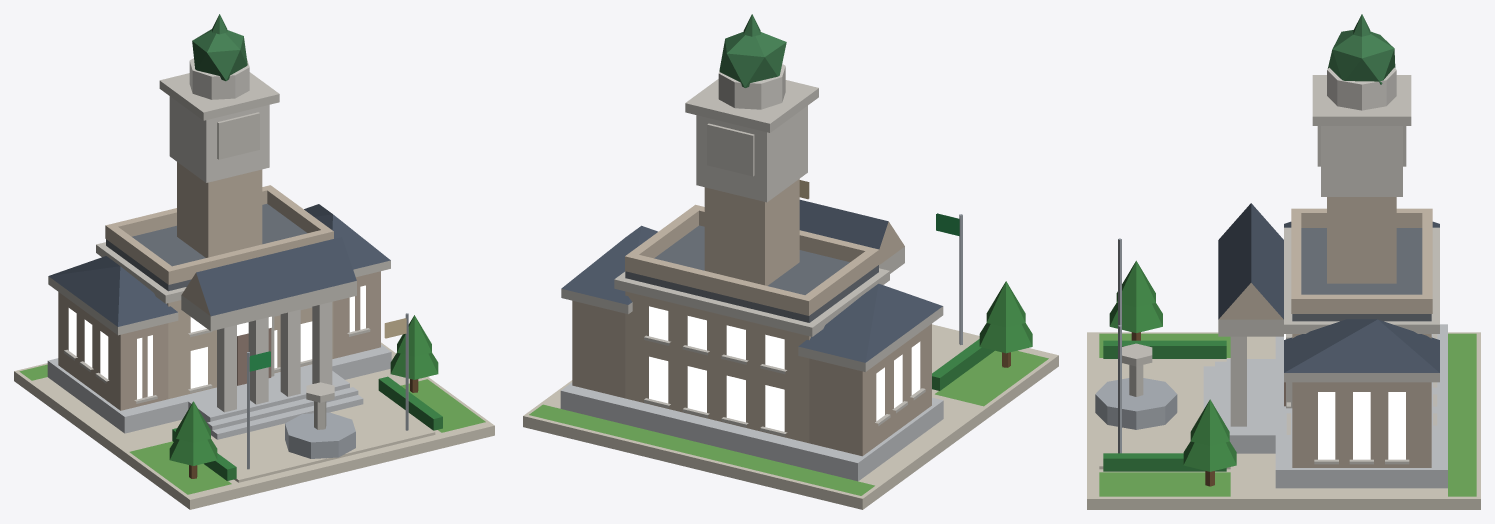
3 renders of one model, left to right at view 1: azimuth 30°, elevation 25°; view 2: azimuth 150°, elevation 25°; view 3: azimuth 270°, elevation 25°, orthographic. The views are drawn at different scales.
Visible parts, largest first — view 1: b21_v2_lod1; view 2: b21_v2_lod1; view 3: b21_v2_lod1.
Part boxes in pixels (<box>): b21_v2_lod1: <box>14,14,494,509</box>; b21_v2_lod1: <box>523,14,1058,509</box>; b21_v2_lod1: <box>1087,14,1480,509</box>.
Bounding box in the file's own units: 0.96 × 1.11 × 0.96.
